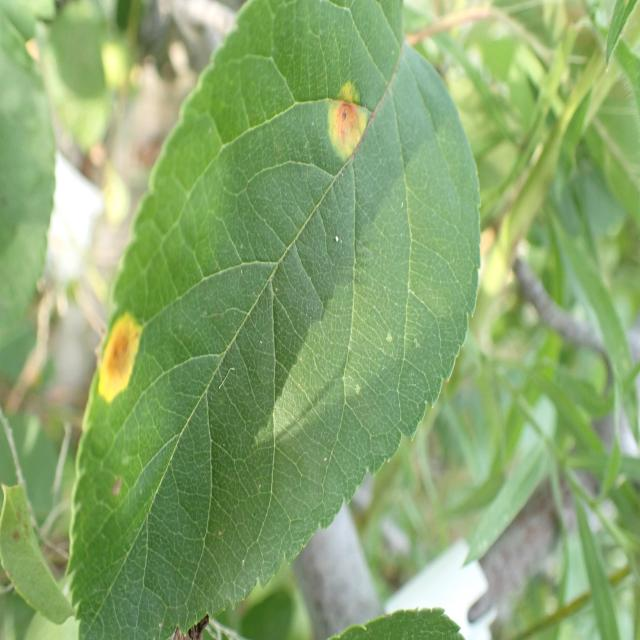Rust: (96, 277, 149, 428), (316, 65, 378, 177)
